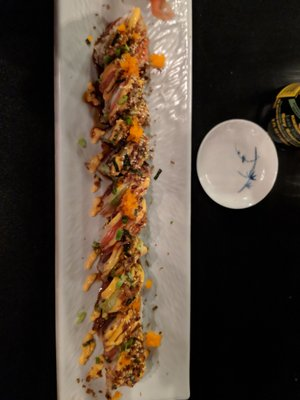steak: (196, 118, 279, 210)
